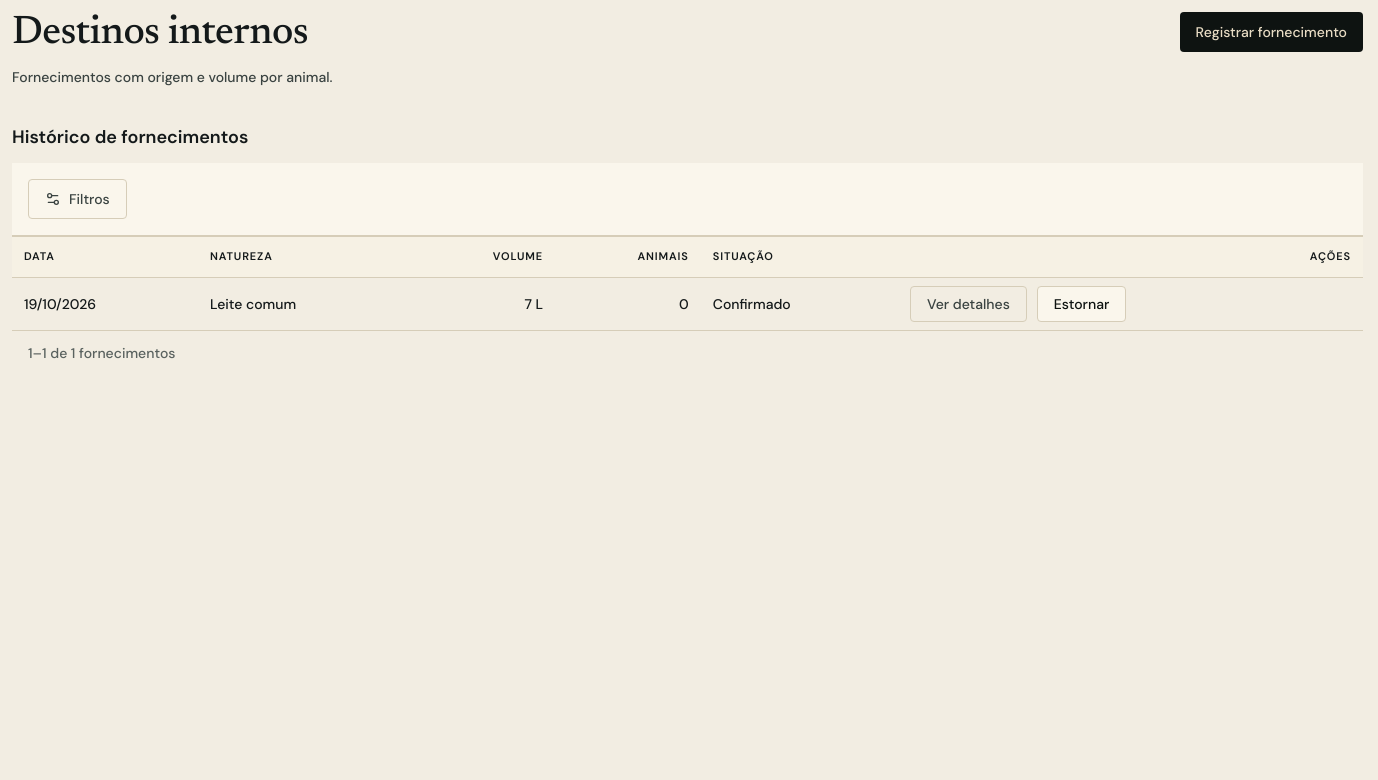
Test: destinos internos › estorna com motivo e versão sem apagar histórico
Expected: the text "Confirmado" is shown, [701, 278, 898, 330]
Click the button with aria-label "Estornar destino de 19/10/2026" at (1082, 304), box [1037, 286, 1126, 322]
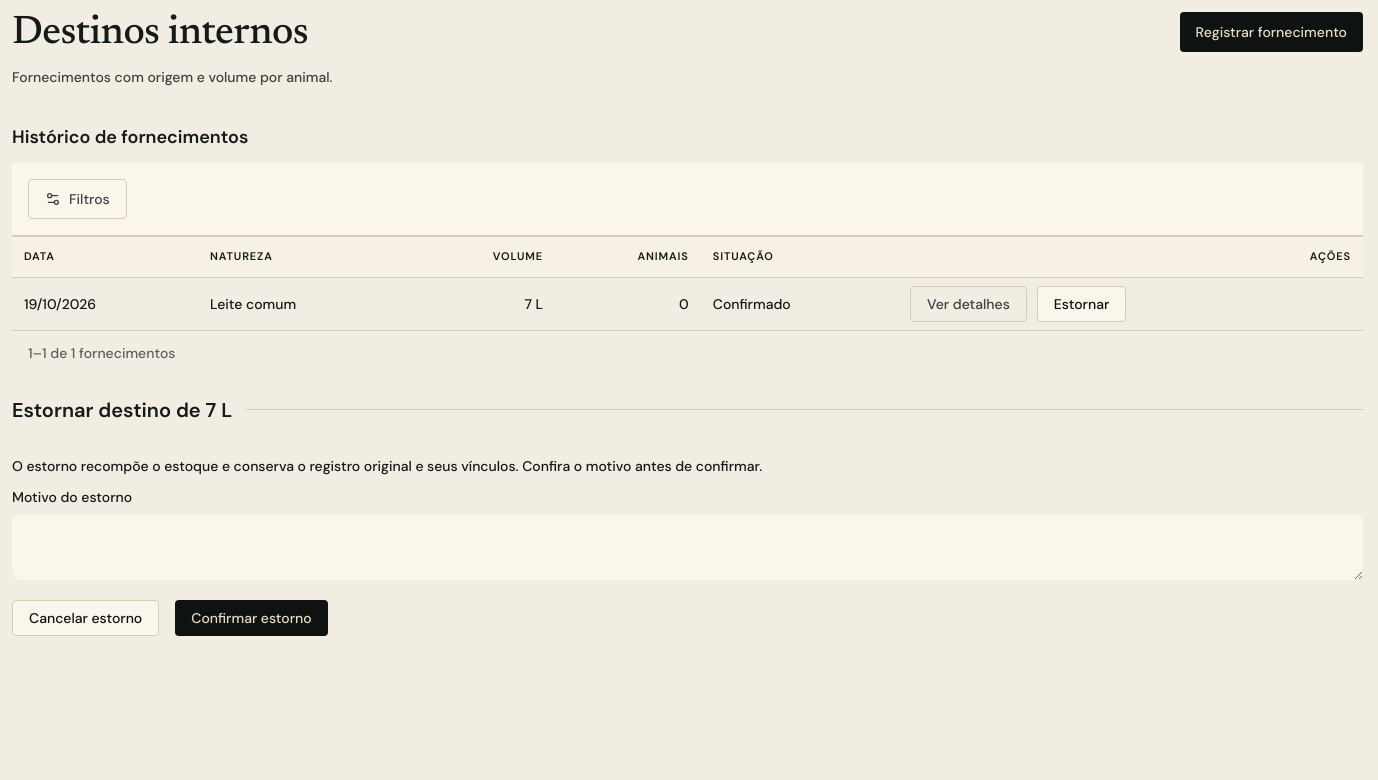
Type "Quantidade informada incorretamente" into the text box labelled "Motivo do estorno" at (688, 547), box [12, 514, 1363, 580]
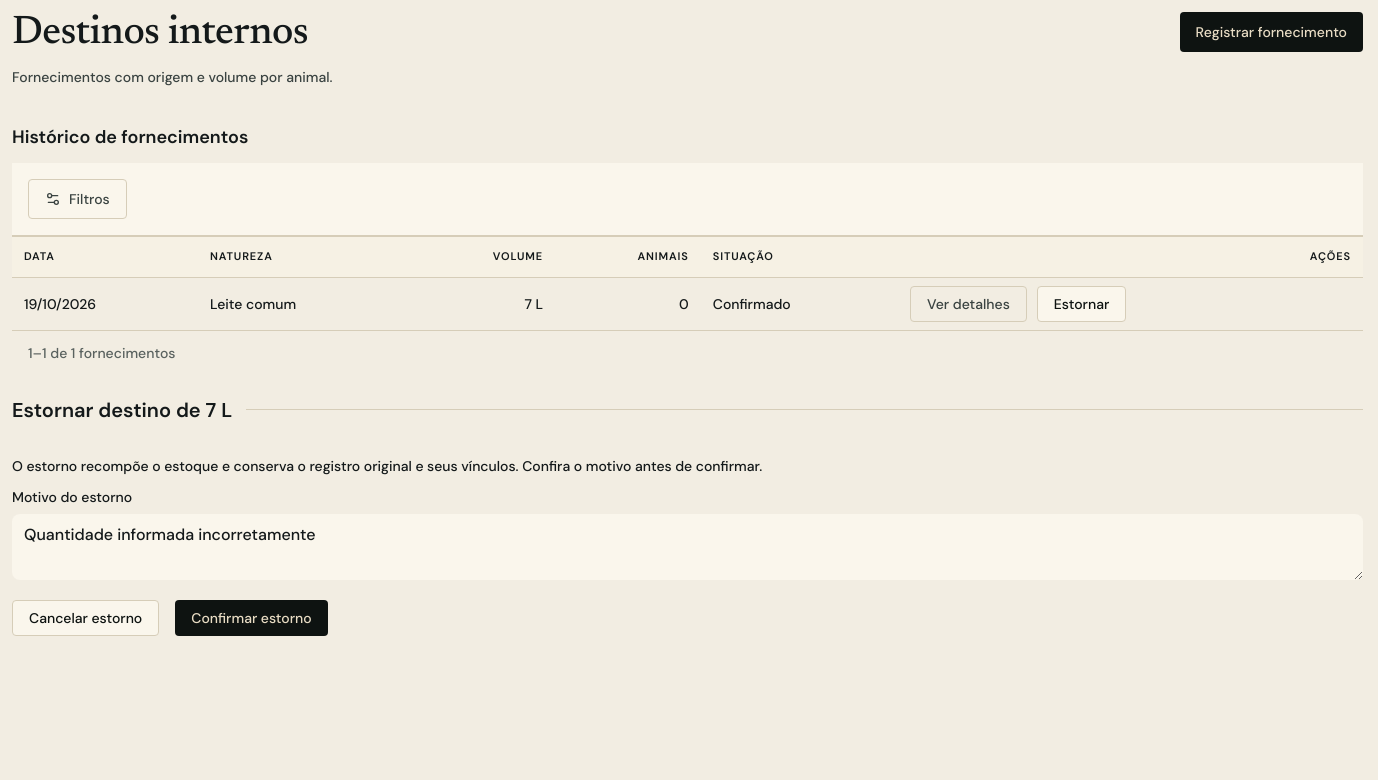
Click the button "Confirmar estorno" at (252, 618), box [175, 600, 328, 636]
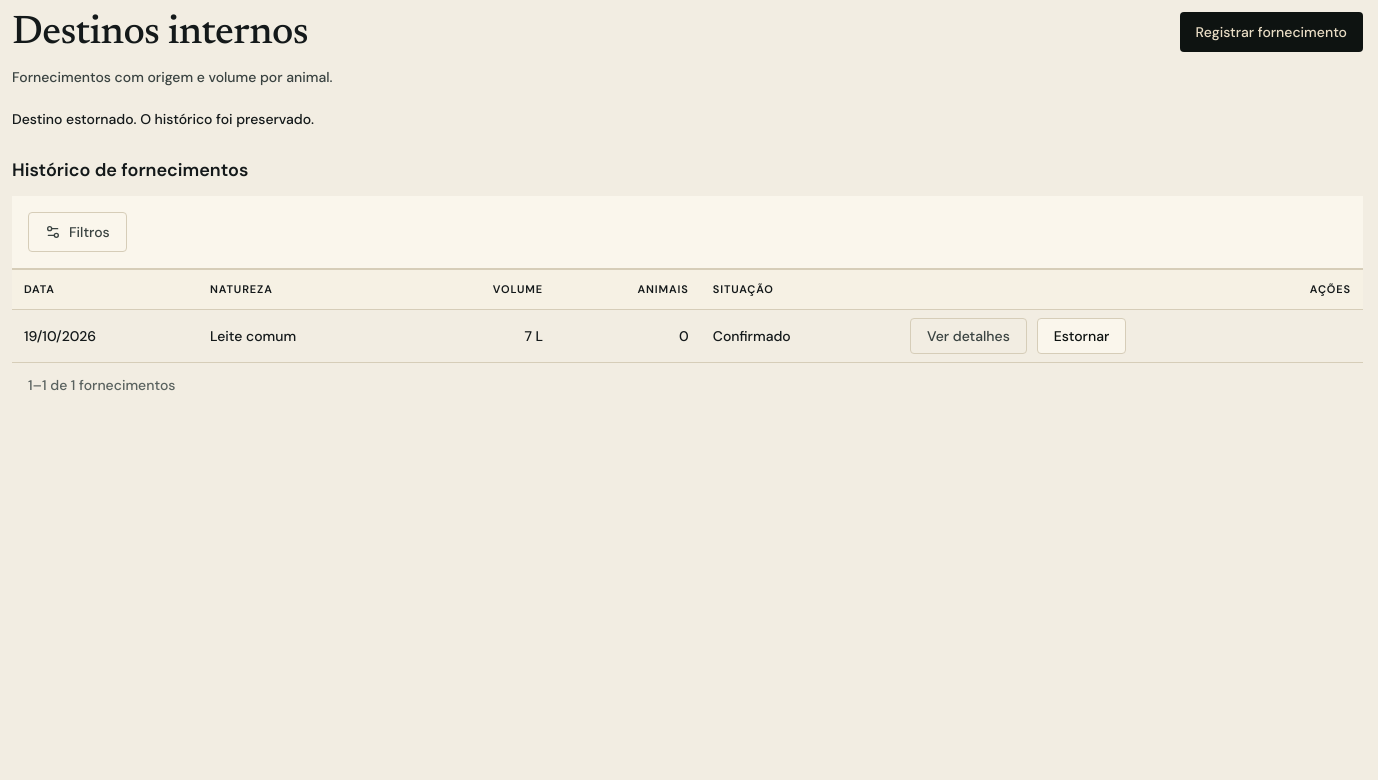
Expected: the text "Destino estornado. O histórico foi preservado." is shown, [12, 110, 314, 128]
